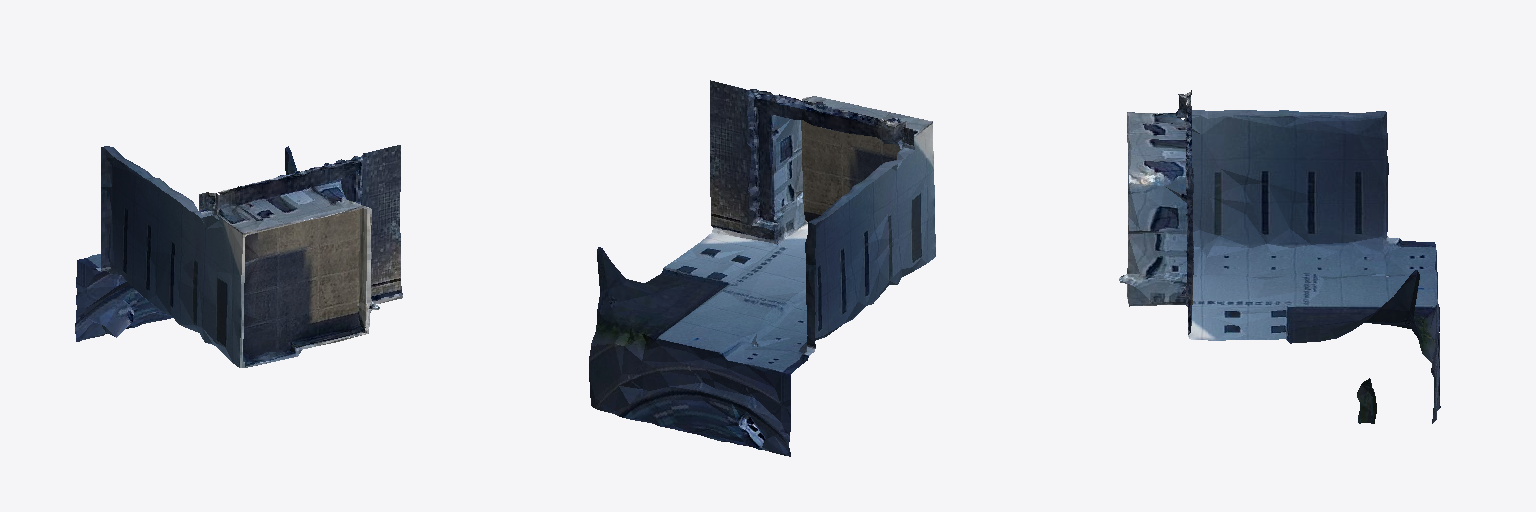
3 views of the same model, side by side, from view 1: azimuth 30°, elevation 25°; view 2: azimuth 150°, elevation 25°; view 3: azimuth 270°, elevation 25° (orthographic).
Parts seen in each view (by area): view 1: obj_0; view 2: obj_0; view 3: obj_0.
Boxes of the visible parts, x1,y1,x2,y2 form: obj_0: [75, 145, 402, 367]; obj_0: [589, 80, 935, 456]; obj_0: [1119, 90, 1440, 423].
Bounding box in the file's own units: 20.08 × 22.53 × 27.58.
1 materials, 1 textured.